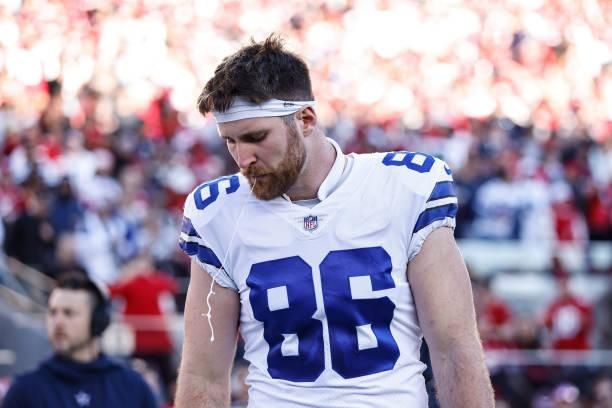Spitting: (193, 21, 337, 245)
